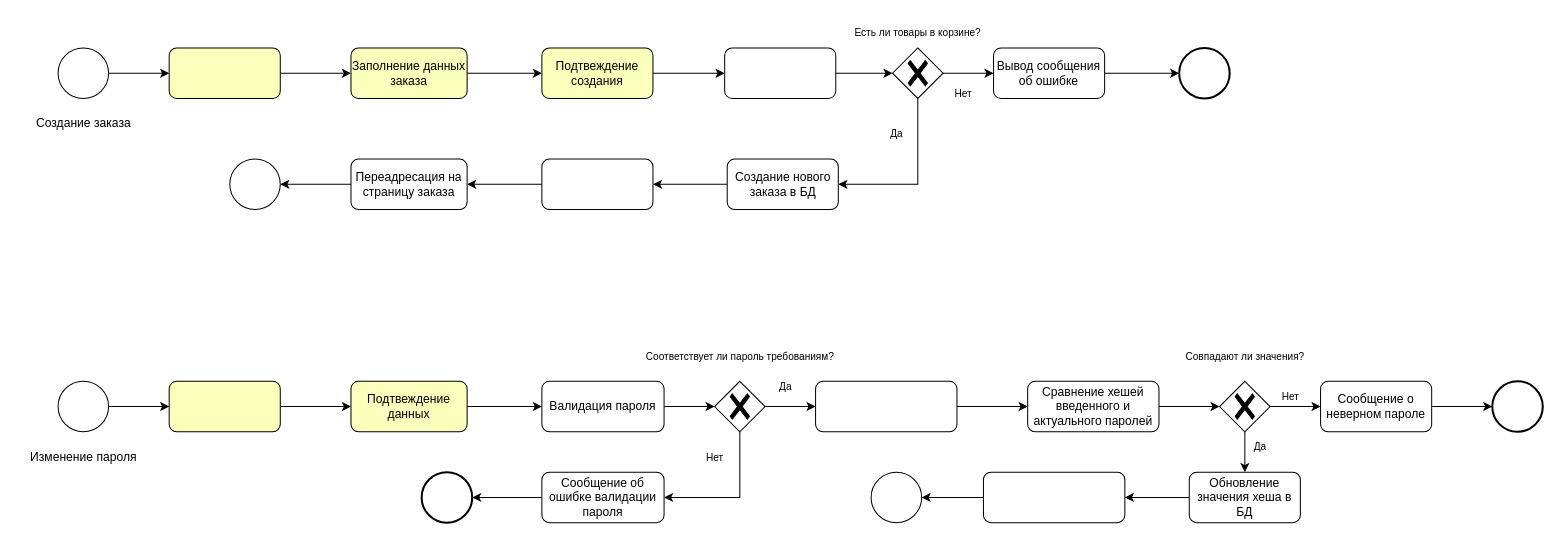
Image size: 1560x540. Some labels were removed from this diagram. Each missing label, with the centre of its shape:
"Заполнение старого и нового паролей" belongs at [224,406].
"Запрос актуальных данных пользователя из БД" belongs at [886,406].
"Переход к созданию заказа" belongs at [224,72].
"Получение содержимого корзины" belongs at [780,72].
"Сообщение об успешном обновлении данных" belongs at [1053,497].
"Удаление содержимого корзины из БД" belongs at [597,184].
